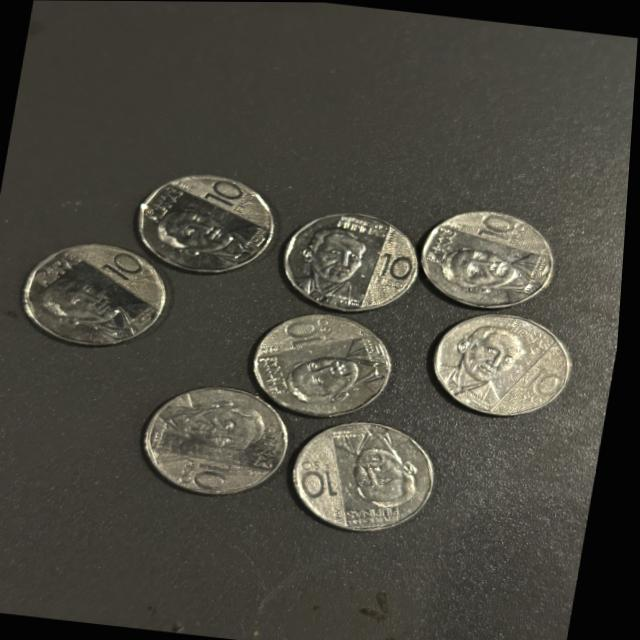10_New_Front: (299, 423, 441, 529), (256, 311, 396, 409), (440, 313, 582, 408), (154, 388, 280, 495), (42, 241, 171, 340), (429, 202, 547, 309), (304, 210, 422, 310), (149, 178, 263, 261)
